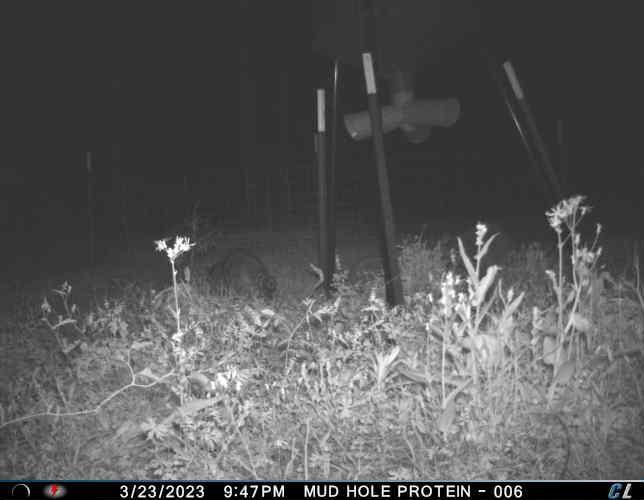Raccoon: (208, 245, 274, 306)
